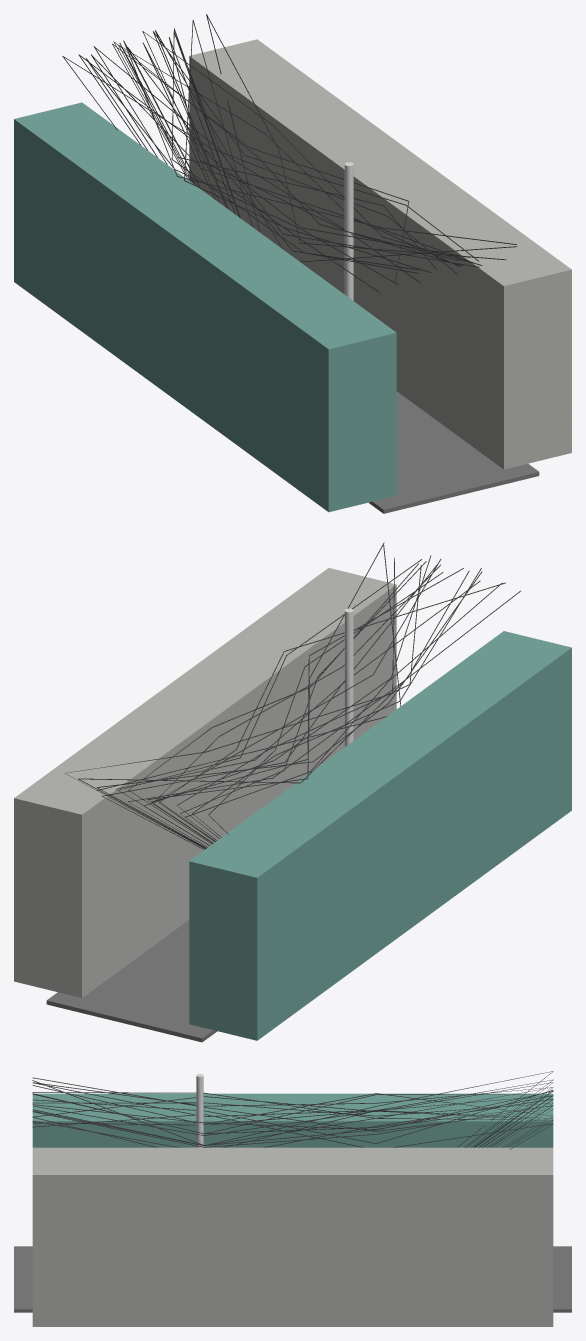
The model's file is alley.fbx.
3 views of the same model, one above another, from view 1: azimuth 30°, elevation 25°; view 2: azimuth 150°, elevation 25°; view 3: azimuth 270°, elevation 25° (orthographic). The views are drawn at different scales.
Visible parts, largest first — view 1: Left_Building_Row, Right_Building_Row, Alley_Floor, Utility_Pole, Alley_Cable_4, Alley_Cable_10, Alley_Cable_0, Alley_Cable_6, Alley_Cable_16, Alley_Cable_11, Alley_Cable_17, Alley_Cable_13 (+12 smaller); view 2: Left_Building_Row, Right_Building_Row, Alley_Floor, Utility_Pole, Alley_Cable_4, Alley_Cable_11, Alley_Cable_6, Alley_Cable_5, Alley_Cable_15, Alley_Cable_13, Alley_Cable_14, Alley_Cable_0; view 3: Right_Building_Row, Left_Building_Row, Alley_Floor, Alley_Cable_19, Alley_Cable_3, Alley_Cable_1, Alley_Cable_17, Alley_Cable_16, Alley_Cable_7, Alley_Cable_15, Alley_Cable_5, Alley_Cable_2 (+12 smaller).
Part boxes in pixels (box(x1,y1,x2,y2)): Left_Building_Row: box(14, 102, 396, 512); Right_Building_Row: box(189, 39, 571, 469); Alley_Floor: box(369, 391, 539, 513); Utility_Pole: box(344, 162, 353, 300); Alley_Cable_4: box(184, 20, 431, 272); Alley_Cable_10: box(123, 40, 516, 244); Alley_Cable_0: box(206, 14, 506, 260); Alley_Cable_6: box(174, 32, 517, 262); Alley_Cable_16: box(93, 46, 479, 267); Alley_Cable_11: box(171, 28, 418, 273); Alley_Cable_17: box(152, 31, 478, 261); Alley_Cable_13: box(169, 37, 462, 266); Left_Building_Row: box(189, 631, 571, 1040); Right_Building_Row: box(14, 568, 396, 997); Alley_Floor: box(46, 920, 217, 1042); Utility_Pole: box(344, 608, 353, 746); Alley_Cable_4: box(78, 570, 469, 848); Alley_Cable_11: box(97, 571, 482, 848); Alley_Cable_6: box(97, 545, 400, 848); Alley_Cable_5: box(151, 568, 463, 843); Alley_Cable_15: box(159, 582, 505, 841); Alley_Cable_13: box(102, 565, 436, 849); Alley_Cable_14: box(128, 590, 520, 847); Alley_Cable_0: box(65, 557, 394, 833); Right_Building_Row: box(32, 1147, 553, 1326); Left_Building_Row: box(32, 1093, 553, 1147); Alley_Floor: box(14, 1246, 571, 1312); Alley_Cable_19: box(32, 1071, 553, 1147); Alley_Cable_3: box(32, 1102, 553, 1147); Alley_Cable_1: box(33, 1090, 553, 1147); Alley_Cable_17: box(32, 1105, 553, 1147); Alley_Cable_16: box(32, 1082, 553, 1147); Alley_Cable_7: box(32, 1079, 553, 1147); Alley_Cable_15: box(32, 1080, 553, 1147); Alley_Cable_5: box(32, 1093, 551, 1147); Alley_Cable_2: box(32, 1095, 552, 1134).
Size of the model in its own units: 1250 by 1220 by 3000.
